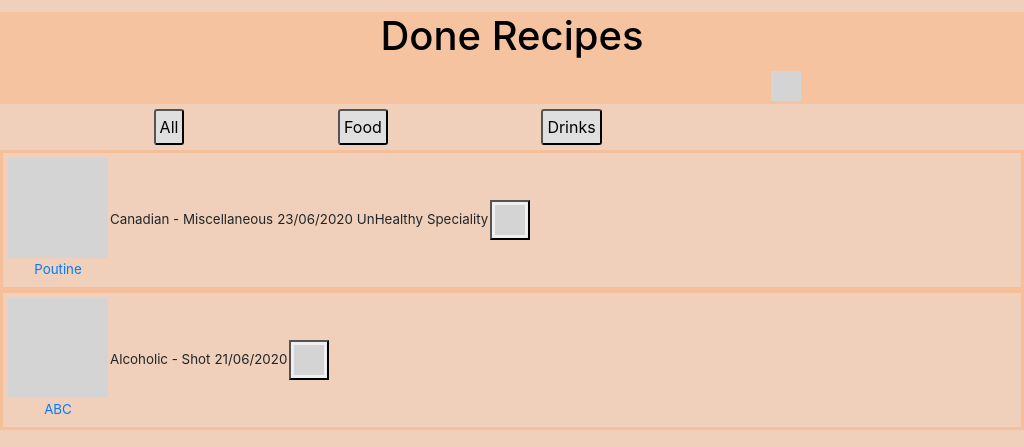
Scenario: testa a página de receitas Prontas › testa os filtros da página de receitas feitas
The width and height of the screenshot is (1024, 447).
Expected: the text "ABC" is shown, [44, 401, 72, 417]
Expected: the text "Poutine" is shown, [34, 261, 82, 277]
Click the button "Food" at (363, 127), box [338, 109, 388, 145]
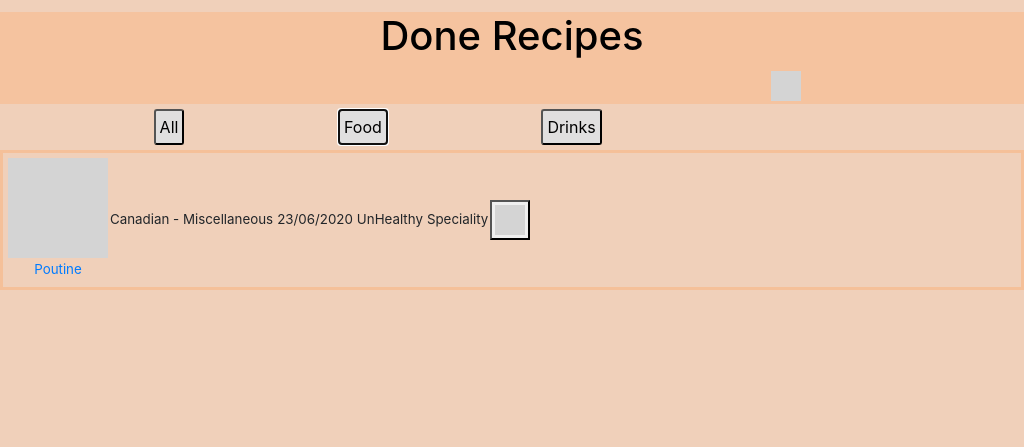
Expected: the text "Poutine" is shown, [34, 261, 82, 277]
Expected: the link "ABC" is gone
Click the button "Drinks" at (572, 127), box [541, 109, 602, 145]
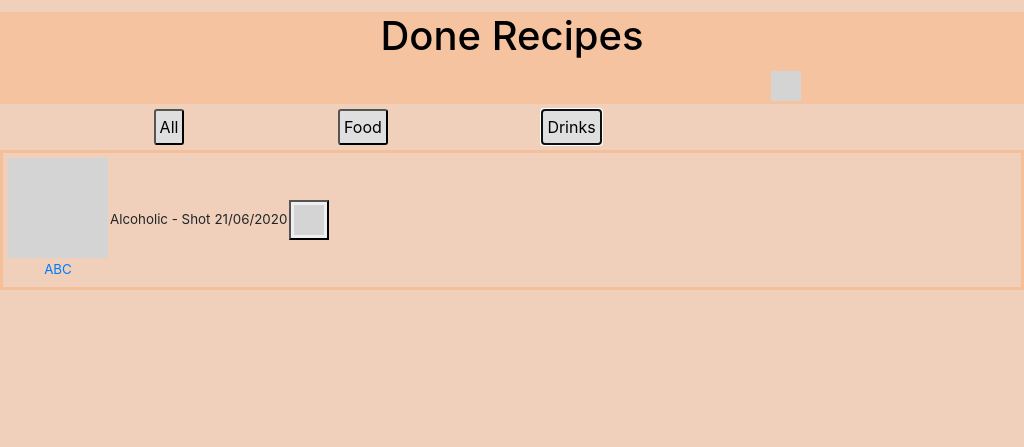
Expected: the link "Poutine" is gone
Expected: the text "ABC" is shown, [44, 261, 72, 277]
Click the button "All" at (169, 127), box [154, 109, 184, 145]
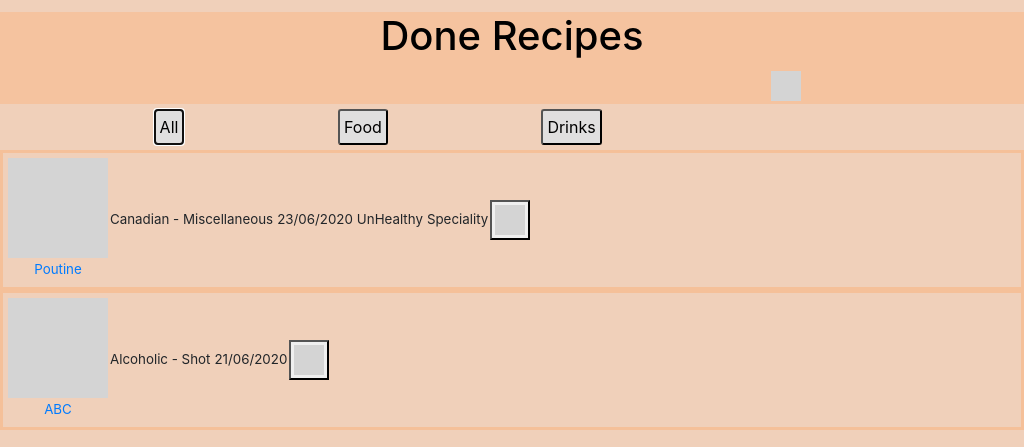
Expected: the text "ABC" is shown, [44, 401, 72, 417]
Expected: the text "Poutine" is shown, [34, 261, 82, 277]
